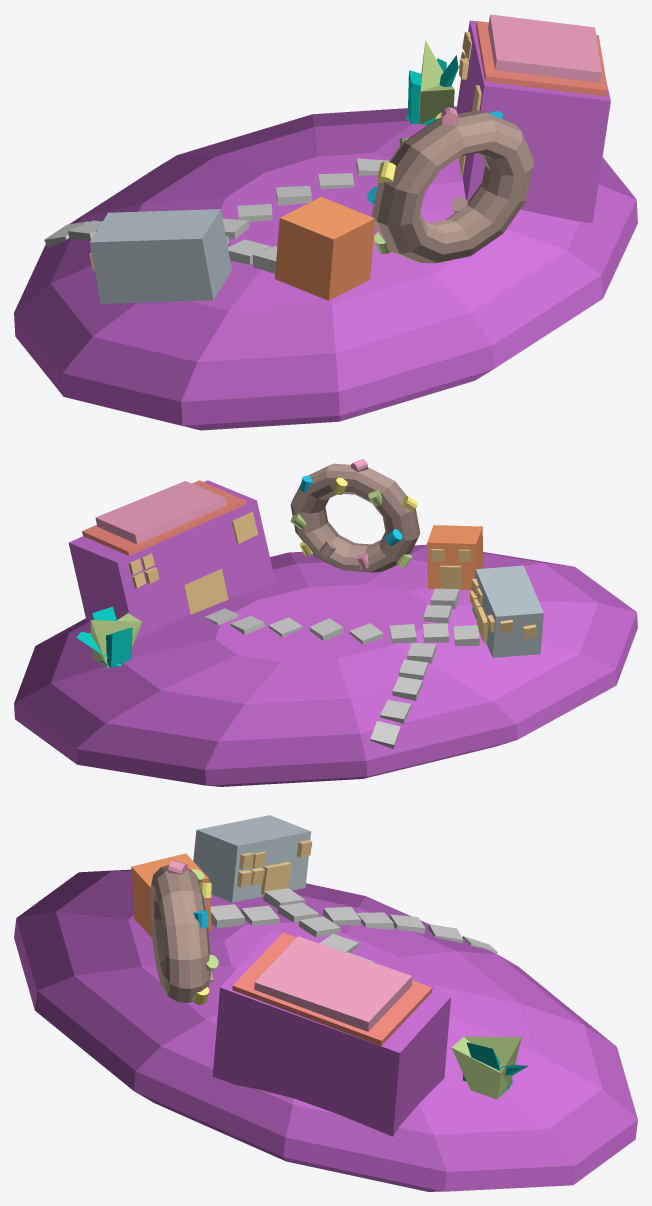
File: purplehouse.dae
3 renders of one model, top to bottom at view 1: azimuth 30°, elevation 25°; view 2: azimuth 150°, elevation 25°; view 3: azimuth 270°, elevation 25°, orthographic. The views are drawn at different scales.
Visible parts, largest first — view 1: model; view 2: model; view 3: model.
Boxes of the visible parts, x1,y1,x2,y2 form: model: [14, 14, 637, 430]; model: [14, 459, 637, 786]; model: [14, 815, 637, 1191].
Bounding box in the file's own units: 0.8972 × 0.8406 × 0.3683.
